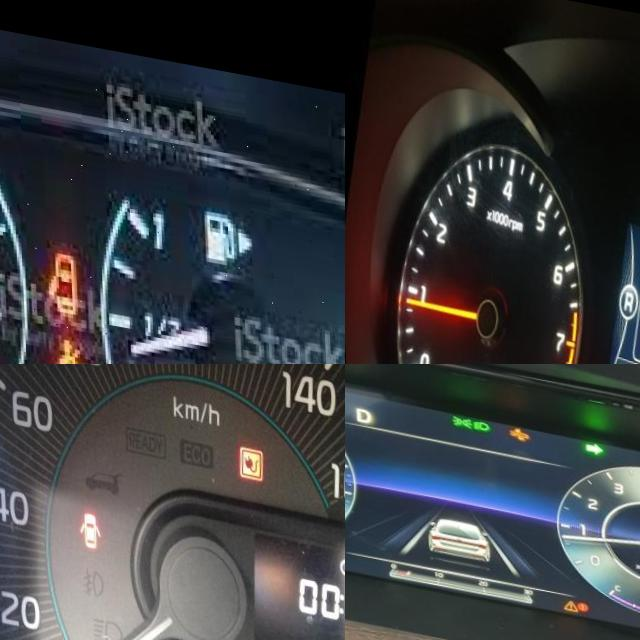Central Warning lamp: (557, 586, 574, 600)
Low beam: (469, 410, 487, 423)
Seat Belt: (42, 324, 88, 364)
SideLamp: (446, 406, 469, 420)
